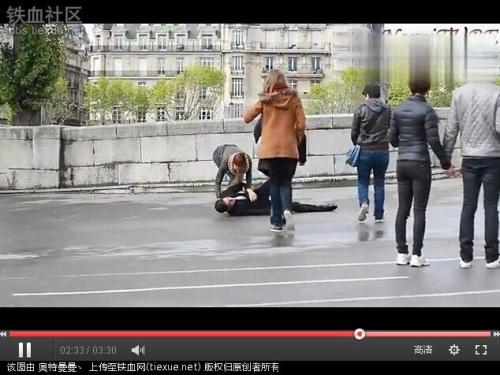fall: (206, 173, 337, 226)
